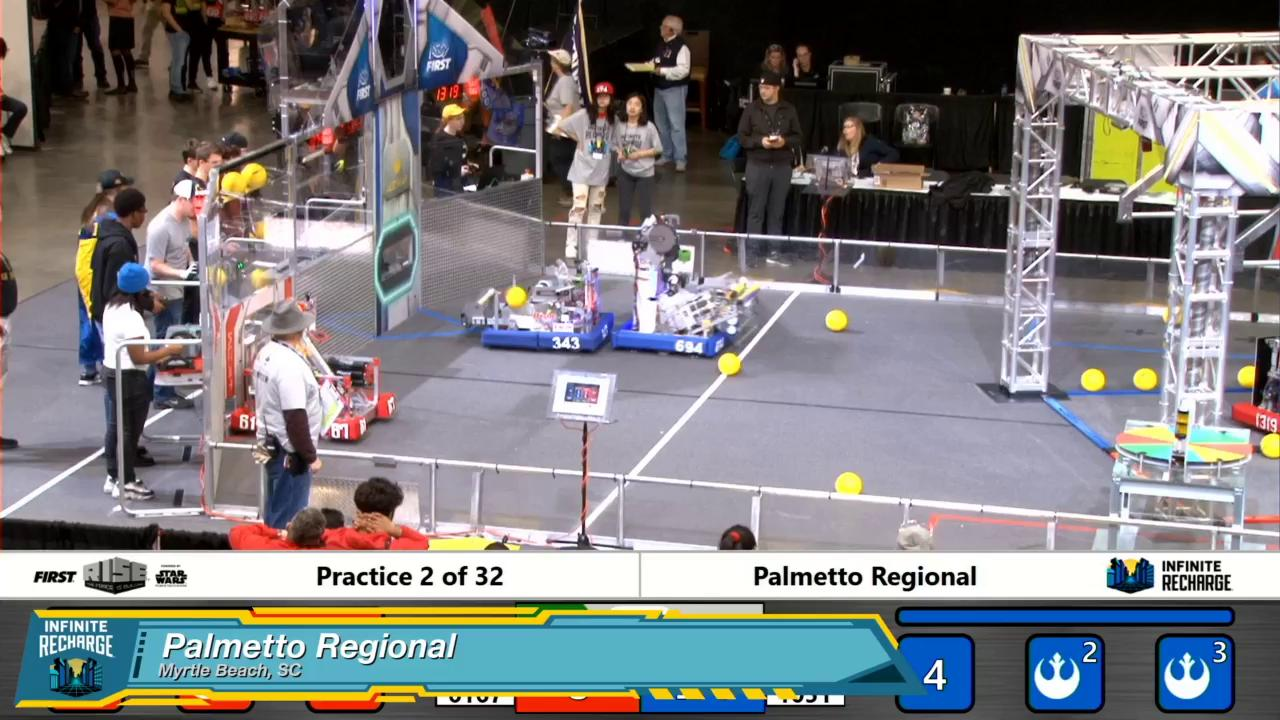robot: (233, 328, 394, 441), (610, 214, 736, 358), (482, 260, 614, 352)
